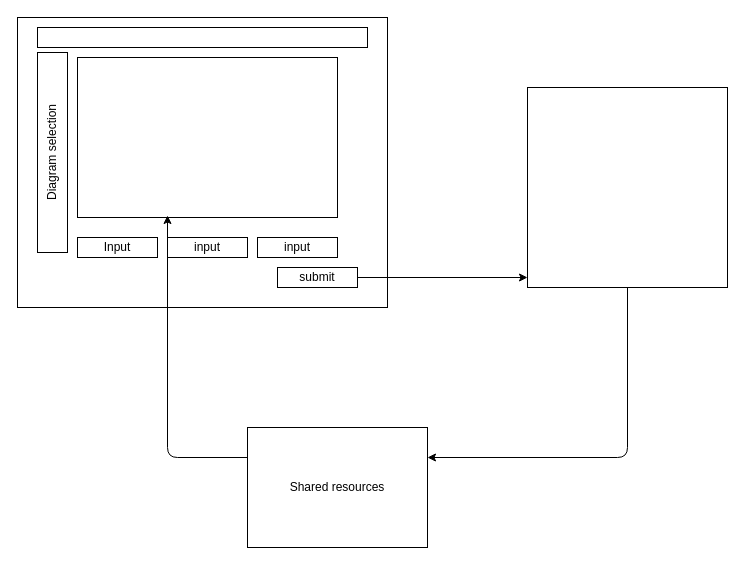
The diagram is 745 pixels wide and 565 high, and some of its shapes have lost their labels. Here are the shapes that lost their labels. From the top down, the box of each, then its label:
(36, 26, 368, 48): Navbar
(76, 56, 338, 218): Diagram
(526, 86, 728, 288): Backend Flask
